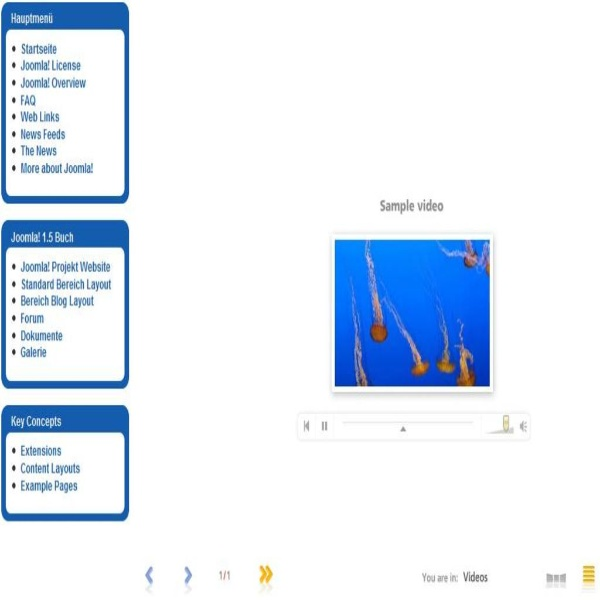Jellyfish: (386, 300, 427, 375), (361, 238, 388, 341), (352, 278, 367, 385), (437, 235, 479, 269), (454, 317, 473, 384), (437, 300, 455, 368), (476, 237, 490, 276)
